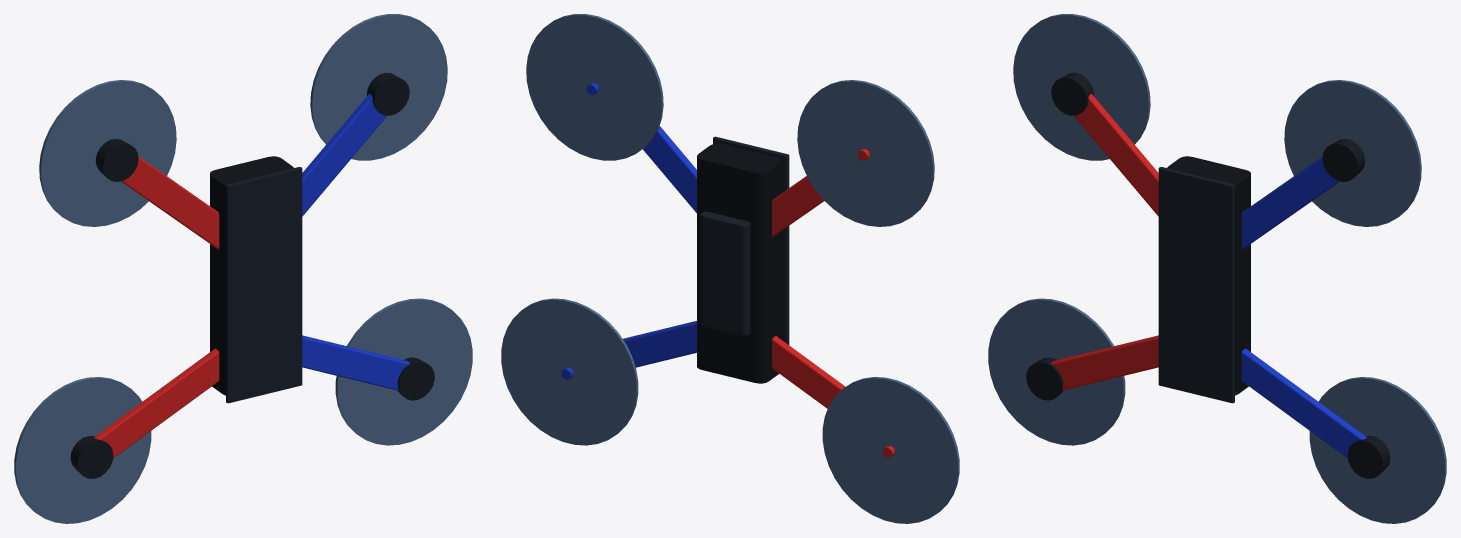
File: fpv_quadrotor.obj
The picture shows the model from 3 angles, left to right: view 1: azimuth 30°, elevation 25°; view 2: azimuth 150°, elevation 25°; view 3: azimuth 330°, elevation 25°; orthographic projection.
Visible parts, largest first — view 1: prop_grey_5, body_mid_1, red_metal_2, blue_metal_6, motor_dark_3, body_dark_0; view 2: prop_grey_5, body_dark_0, body_mid_1, blue_metal_6, red_metal_2; view 3: prop_grey_5, body_mid_1, blue_metal_6, red_metal_2, motor_dark_3, body_dark_0.
Part boxes in pixels (box(x1,y1,x2,y2)): prop_grey_5: box(14, 14, 472, 523); body_mid_1: box(226, 167, 302, 403); red_metal_2: box(94, 156, 219, 458); blue_metal_6: box(302, 93, 409, 390); motor_dark_3: box(70, 72, 434, 478); body_dark_0: box(210, 156, 293, 395); prop_grey_5: box(501, 14, 959, 523); body_dark_0: box(697, 143, 781, 383); body_mid_1: box(700, 136, 789, 344); blue_metal_6: box(561, 82, 696, 379); red_metal_2: box(772, 149, 894, 458); prop_grey_5: box(988, 14, 1446, 523); body_mid_1: box(1158, 167, 1234, 403); blue_metal_6: box(1241, 156, 1366, 458); red_metal_2: box(1051, 93, 1158, 390); motor_dark_3: box(1026, 72, 1390, 478); body_dark_0: box(1167, 156, 1250, 395).
Size of the model in its own units: 0.8747 by 0.7918 by 0.1001.
